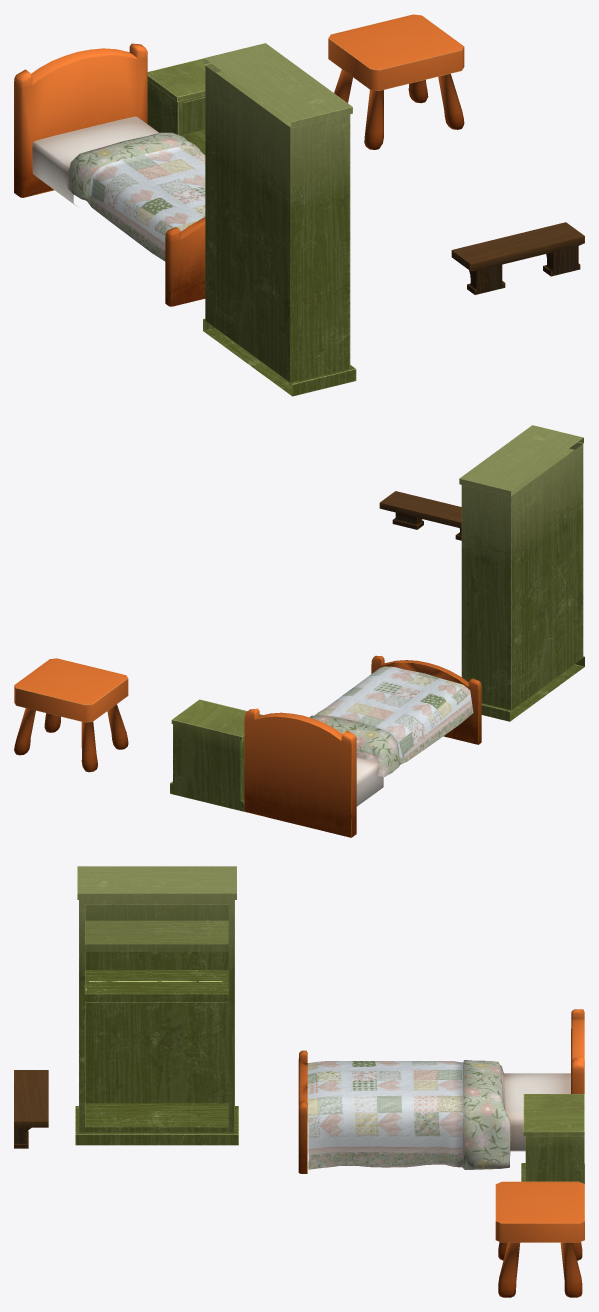
Rendered from SM_Kidroom_Furniture_Mat_.fbx.
The picture shows the model from 3 angles, top to bottom: view 1: azimuth 30°, elevation 25°; view 2: azimuth 150°, elevation 25°; view 3: azimuth 270°, elevation 25°; orthographic projection. The views are drawn at different scales.
Visible parts, largest first — view 1: SM_Furniture_join; view 2: SM_Furniture_join; view 3: SM_Furniture_join.
Boxes of the visible parts, box(x1,y1,x2,y2) form: SM_Furniture_join: box(14, 14, 584, 396); SM_Furniture_join: box(14, 425, 584, 837); SM_Furniture_join: box(14, 866, 584, 1297).
Size of the model in its own units: 3 by 1.94 by 4.
